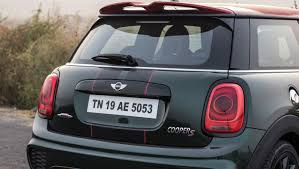T: (91, 98, 98, 109)
